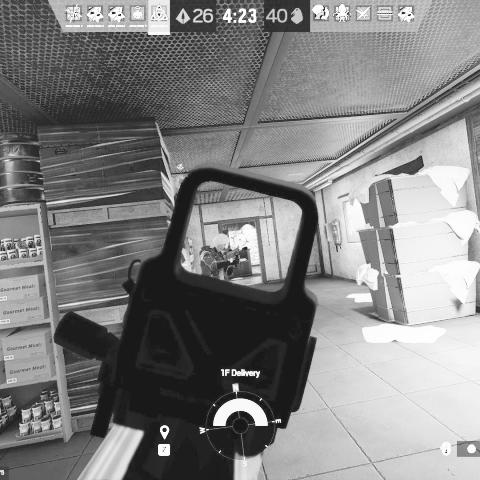Character: (198, 232, 250, 281)
Head: (212, 233, 228, 251)
